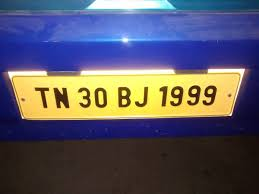T: (31, 85, 53, 109)
